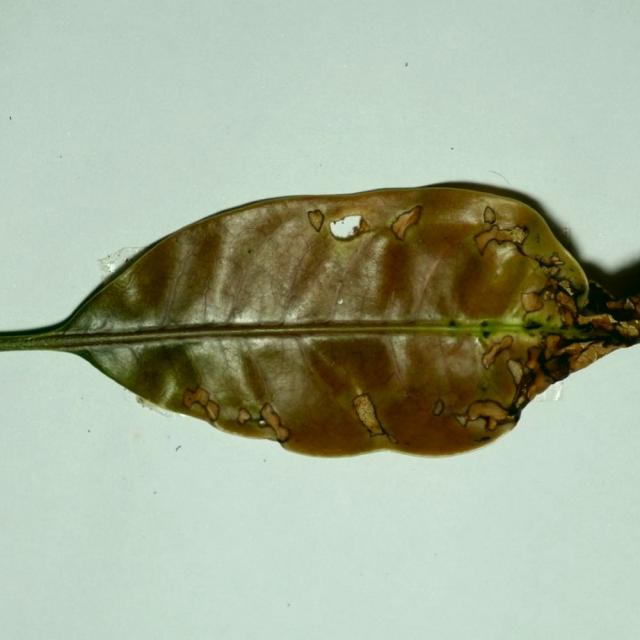Anthracnose: (472, 206, 532, 261), (328, 209, 378, 247), (453, 400, 513, 430), (351, 393, 388, 438), (563, 341, 611, 373), (99, 246, 144, 278), (534, 332, 564, 380), (182, 387, 219, 422), (389, 204, 423, 242), (482, 335, 515, 372), (259, 403, 290, 441), (553, 288, 578, 320), (521, 290, 544, 313), (612, 321, 638, 340), (307, 209, 324, 233), (556, 278, 574, 296), (605, 299, 630, 310), (432, 398, 445, 417), (484, 205, 496, 224), (237, 409, 251, 425), (455, 414, 469, 427), (106, 262, 117, 273), (337, 298, 344, 304), (318, 163, 323, 167), (59, 155, 62, 158)
Mango: (0, 182, 639, 461)
